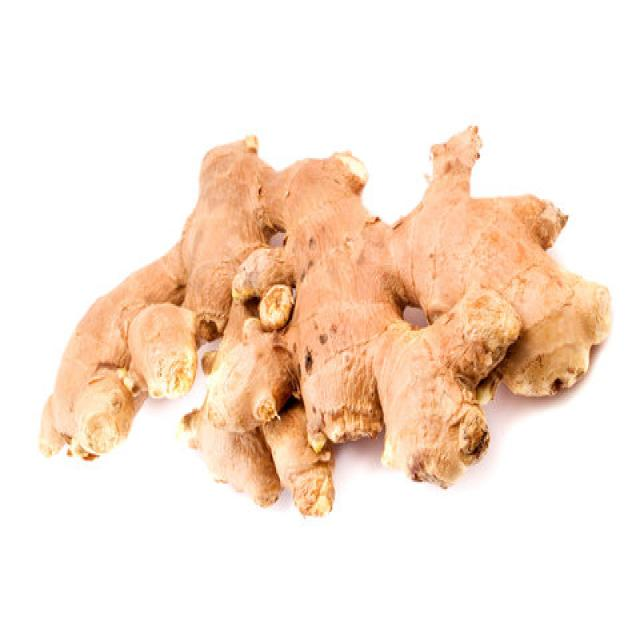Ginger: (37, 122, 611, 516)
